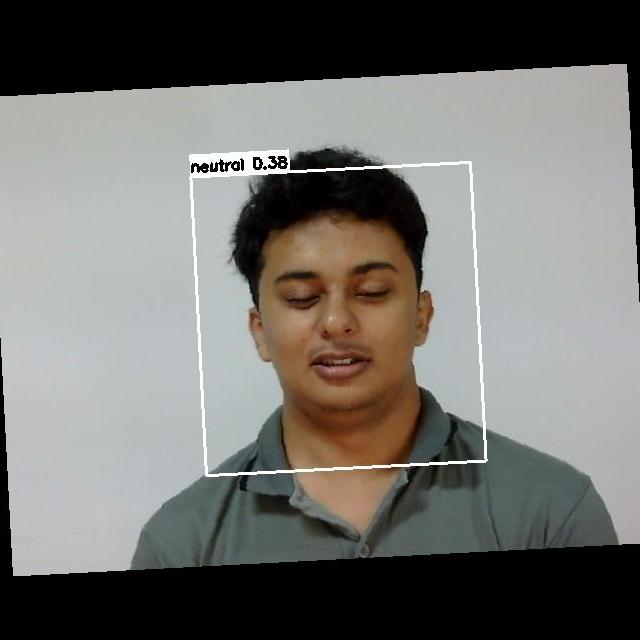Fear: (246, 246, 426, 405)
